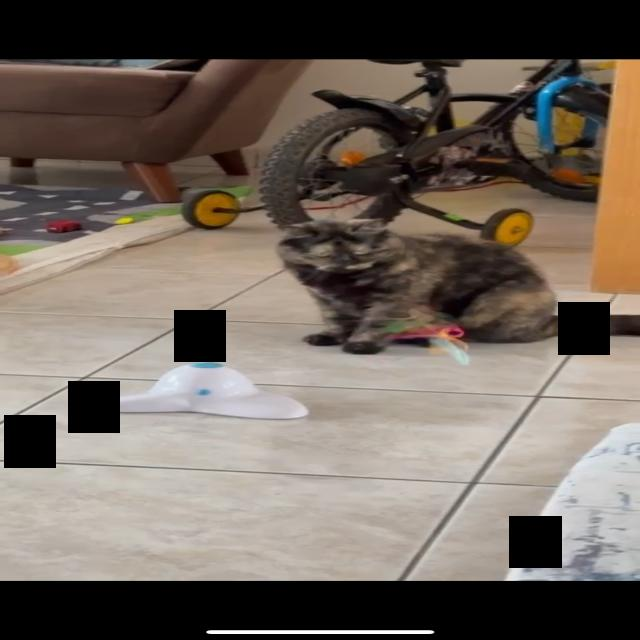authorized: (274, 216, 638, 354)
